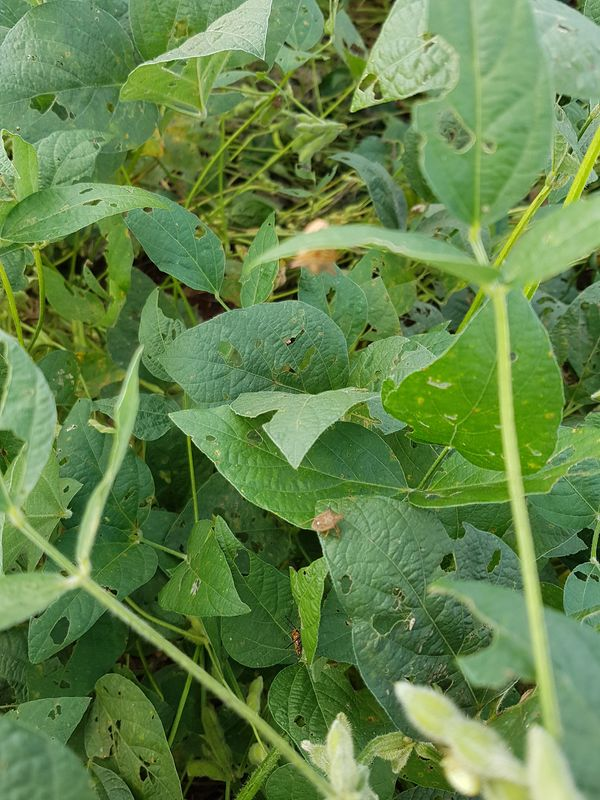Euschistus_heros_adulto: (283, 214, 349, 285), (303, 501, 349, 546), (269, 92, 286, 112)
